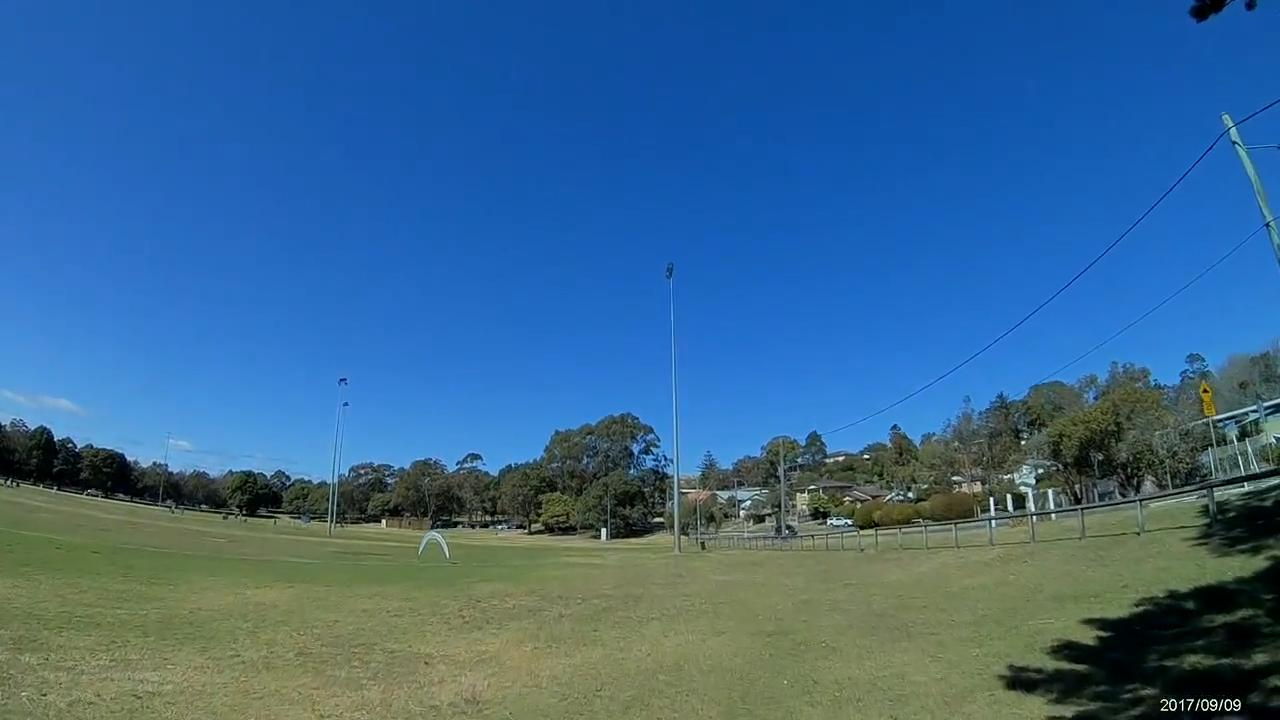gate: (414, 530, 450, 562)
